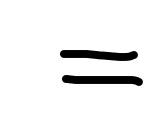eqv: (57, 44, 145, 90)
